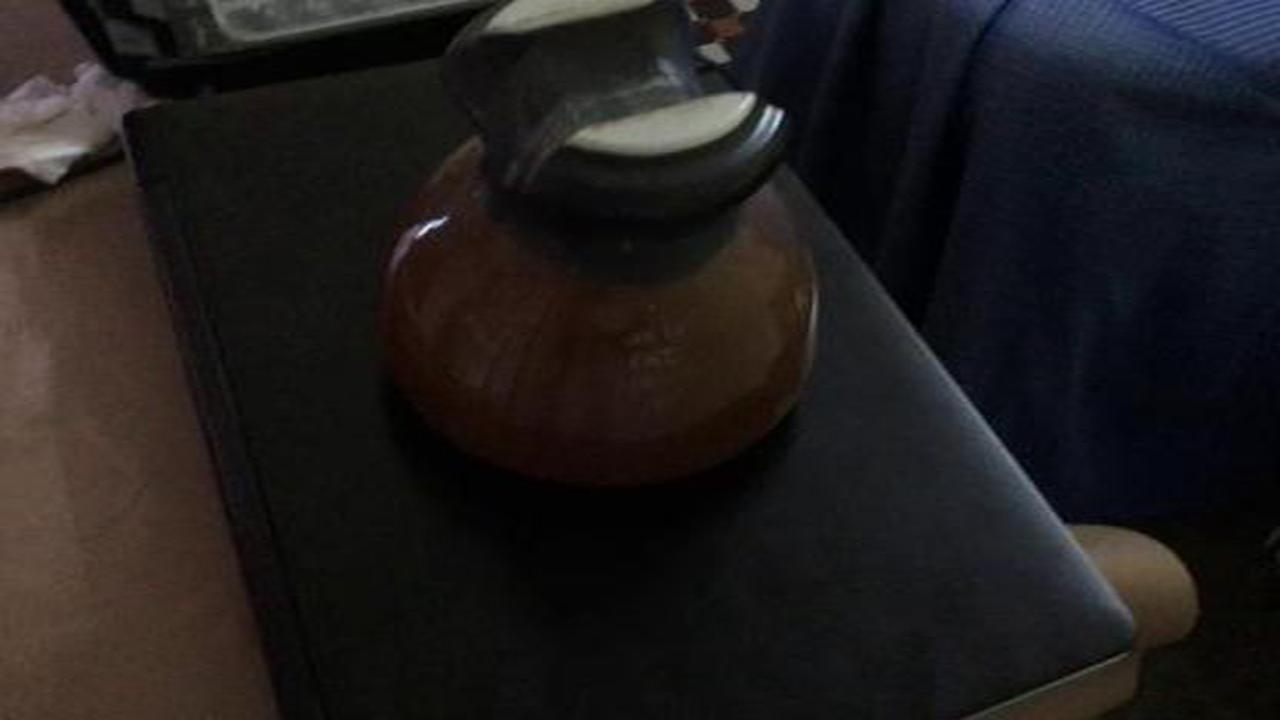insulator_pin: (357, 4, 837, 489)
